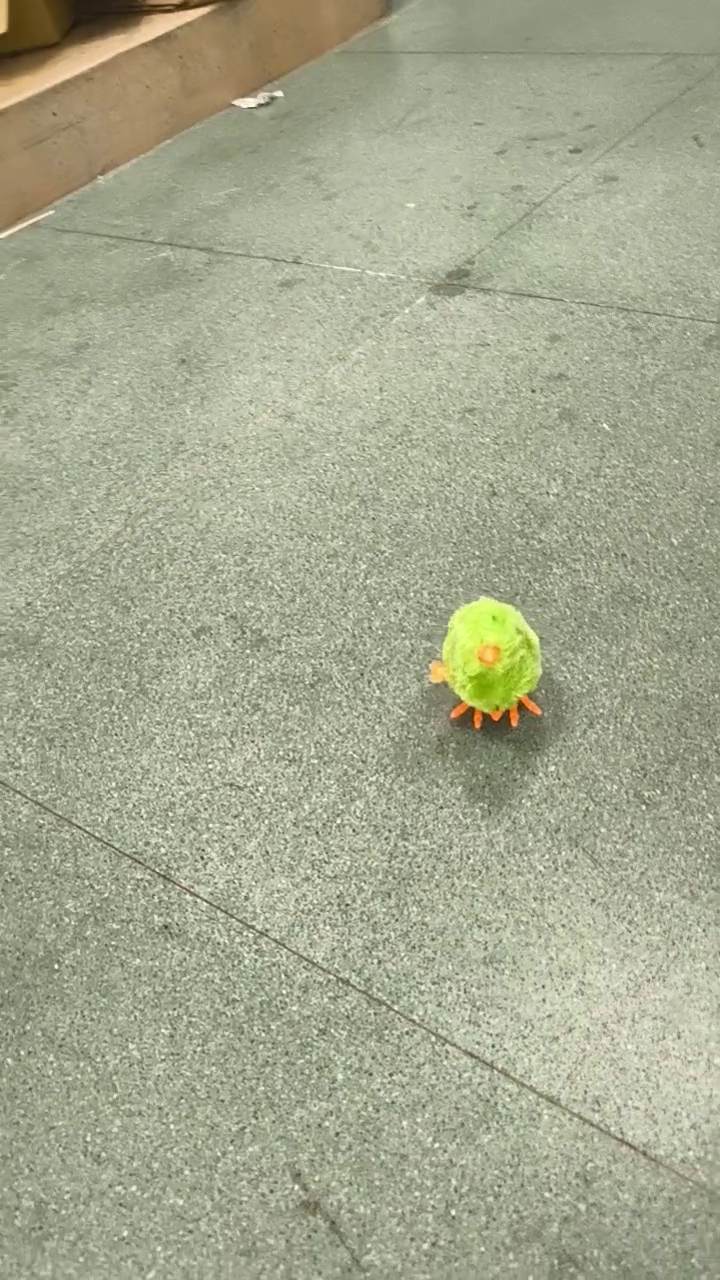green chicken: (423, 592, 549, 730)
